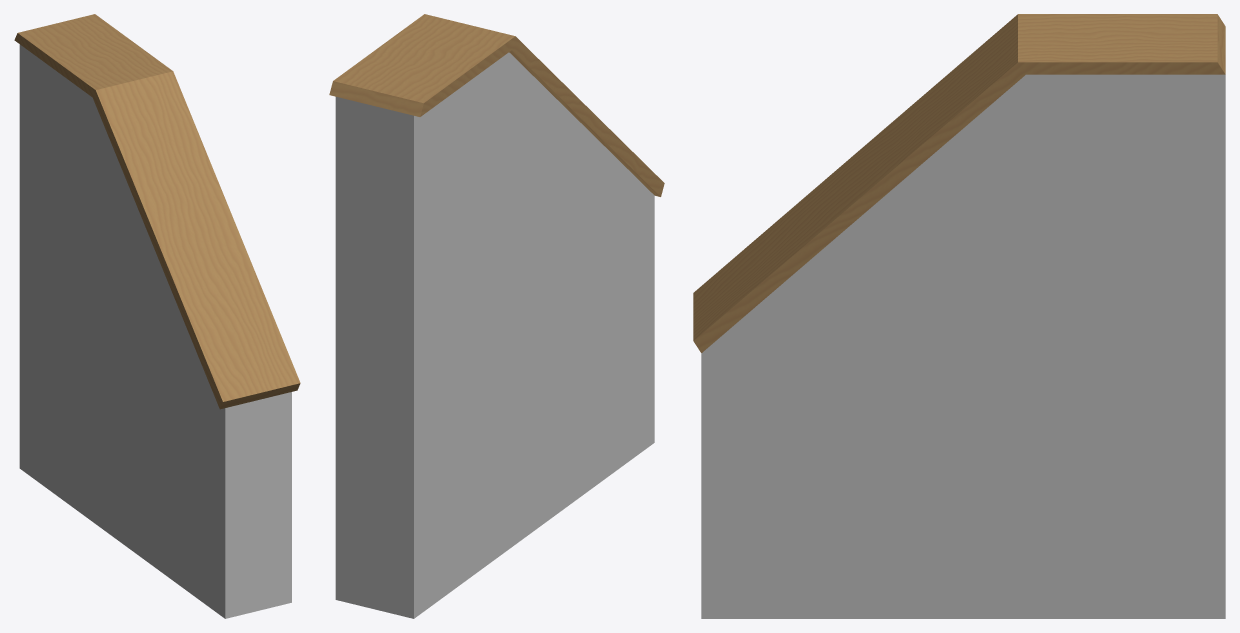
Rendered from Small_Rail_A_09.FBX.
3 renders of one model, left to right at view 1: azimuth 30°, elevation 25°; view 2: azimuth 150°, elevation 25°; view 3: azimuth 270°, elevation 25°, orthographic. The views are drawn at different scales.
Parts seen in each view (by area): view 1: Small_Rail_01; view 2: Small_Rail_01; view 3: Small_Rail_01.
Boxes of the visible parts, x1,y1,x2,y2 form: Small_Rail_01: [14, 14, 300, 618]; Small_Rail_01: [329, 14, 664, 618]; Small_Rail_01: [693, 14, 1225, 618].
Bounding box in the file's own units: 2283 × 12352 × 10637.
